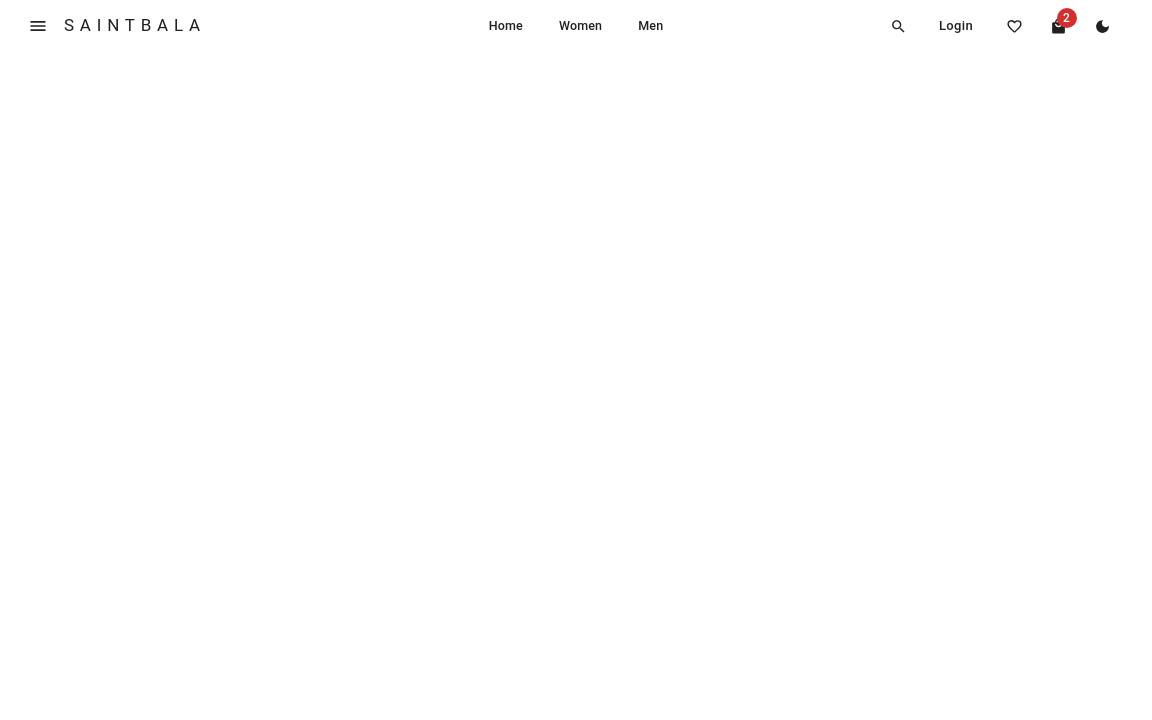
CustomersHeaderbar › Mobile viewport › shows header menu button on mobile when custom drawerItems are passed
Click the button named "menu" at (38, 26), box x1=20 y1=8 x2=56 y2=44
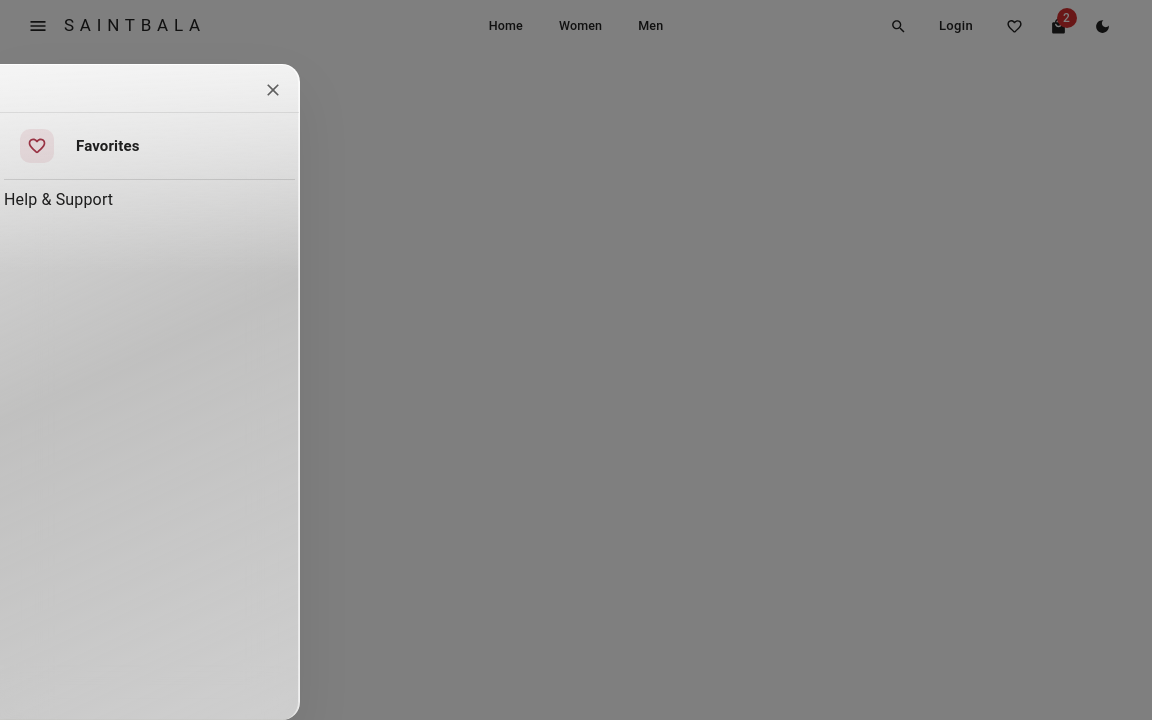
Now the text "Help & Support" is shown, box x1=4 y1=190 x2=113 y2=209
